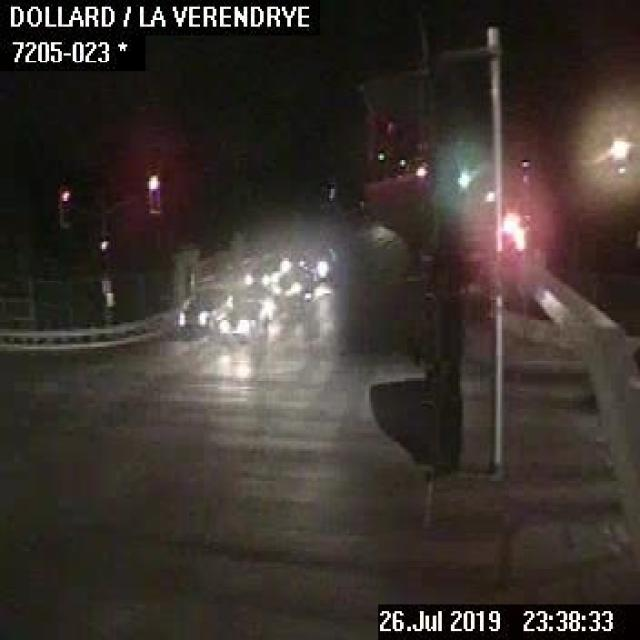vehicle: (177, 288, 234, 336), (218, 298, 270, 339), (270, 271, 312, 301), (238, 256, 274, 287)
